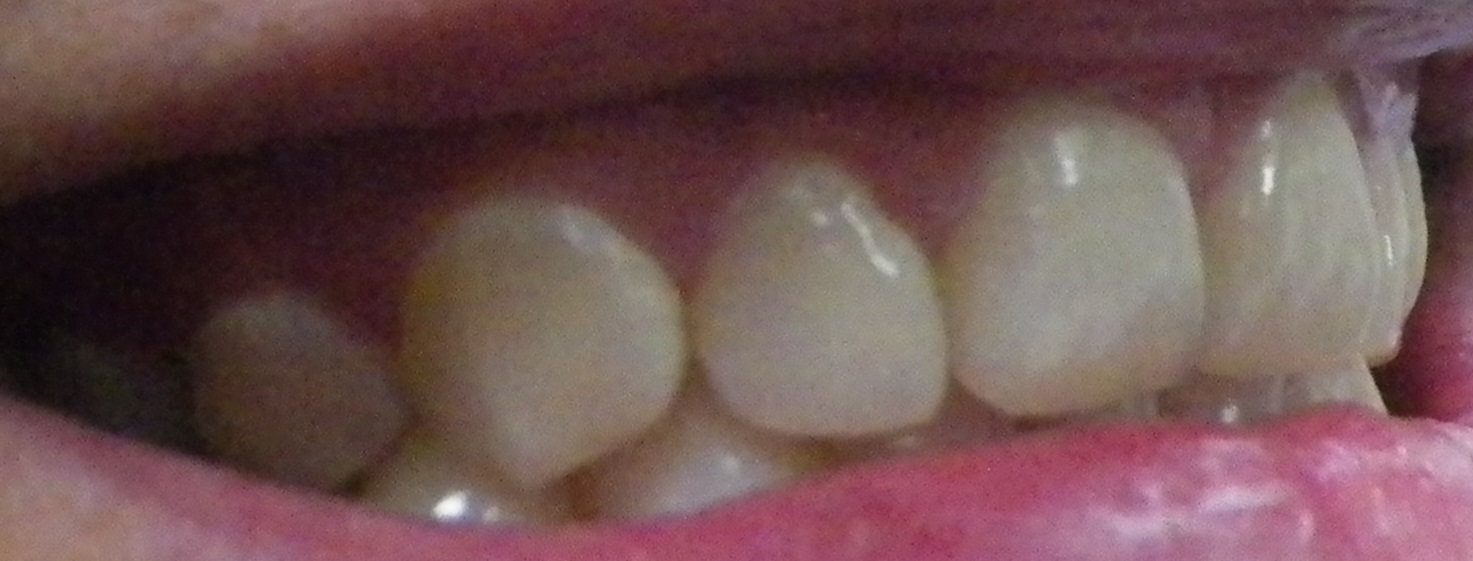boca: (170, 80, 1455, 549)
